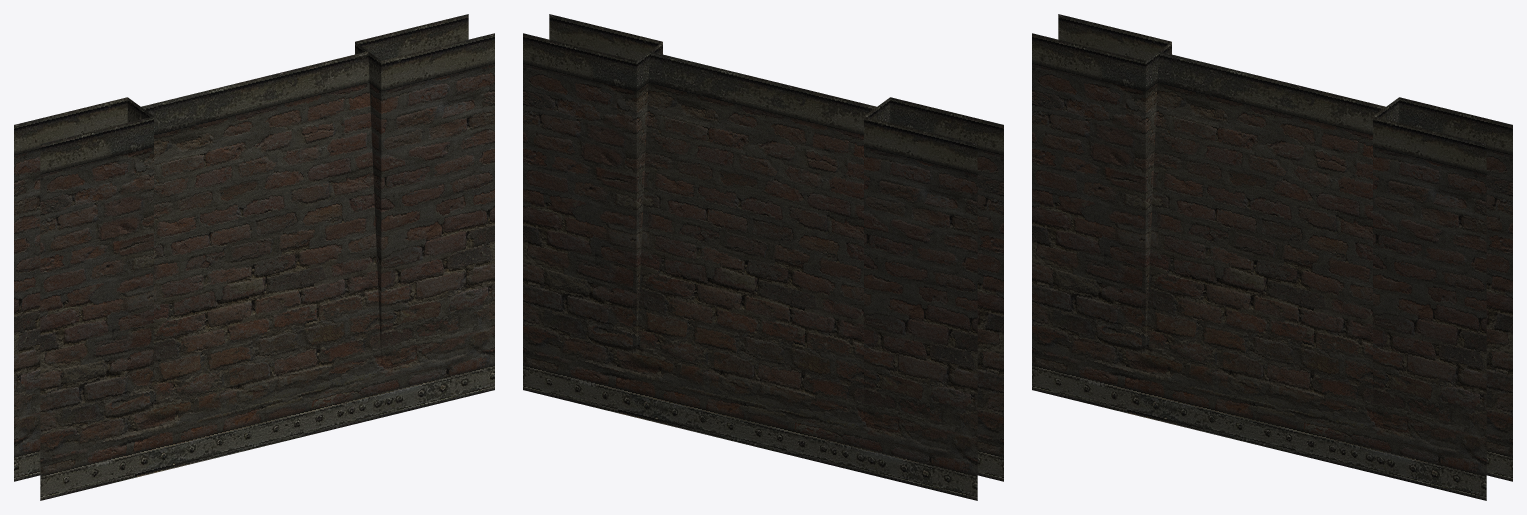
File: wall_hr_1_t_1.glb
3 renders of one model, left to right at view 1: azimuth 30°, elevation 25°; view 2: azimuth 150°, elevation 25°; view 3: azimuth 330°, elevation 25°, orthographic.
Parts seen in each view (by area): view 1: wall_hr_1_t_1; view 2: wall_hr_1_t_1; view 3: wall_hr_1_t_1.
Part boxes in pixels (x1,y1,x2,y2): wall_hr_1_t_1: [14, 14, 494, 500]; wall_hr_1_t_1: [523, 14, 1003, 500]; wall_hr_1_t_1: [1032, 14, 1512, 500].
Size of the model in its own units: 4 by 3 by 0.4.
1 material, 1 textured.
